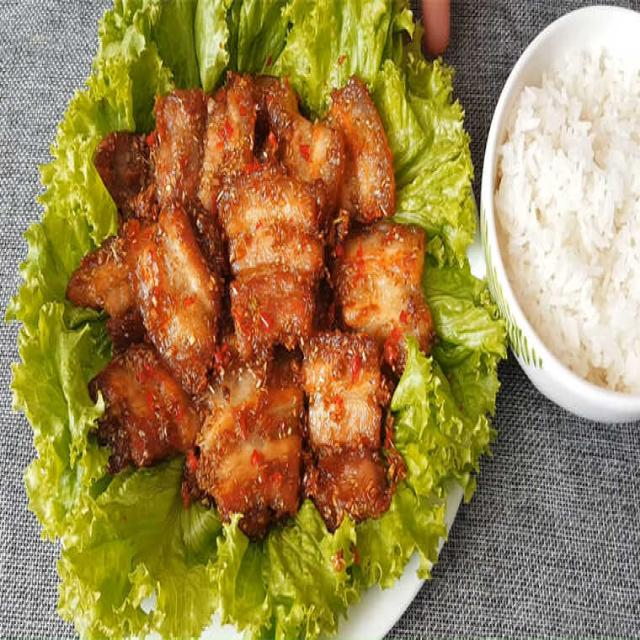com: (494, 36, 639, 394)
thit chien: (68, 207, 221, 392), (218, 161, 323, 358), (302, 330, 396, 529), (188, 376, 300, 533), (91, 345, 200, 468), (109, 90, 209, 217), (331, 223, 424, 336), (265, 81, 343, 207), (328, 78, 395, 223), (199, 87, 255, 213)
